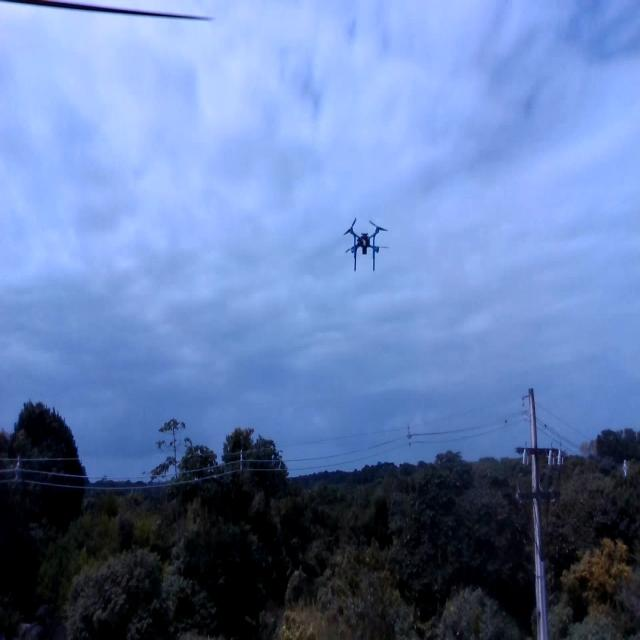-uav-: (333, 205, 393, 288)
